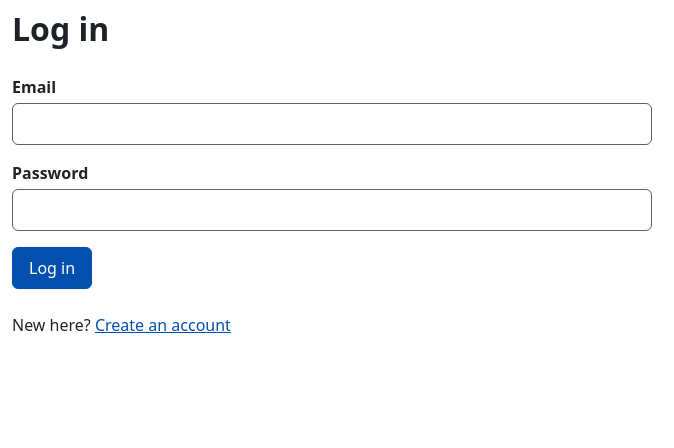
Test case: LoginPage › shows the API's message for a wrong email or password
Step 1. Type "casey@example.com" into the field labelled "Email" → (332, 124), box [12,103,652,145]
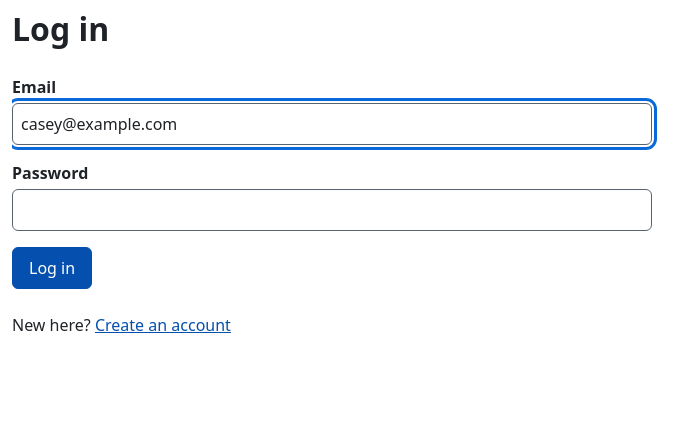
Step 2. Type "password123" into the password field labelled "Password" → (332, 210), box [12,189,652,231]
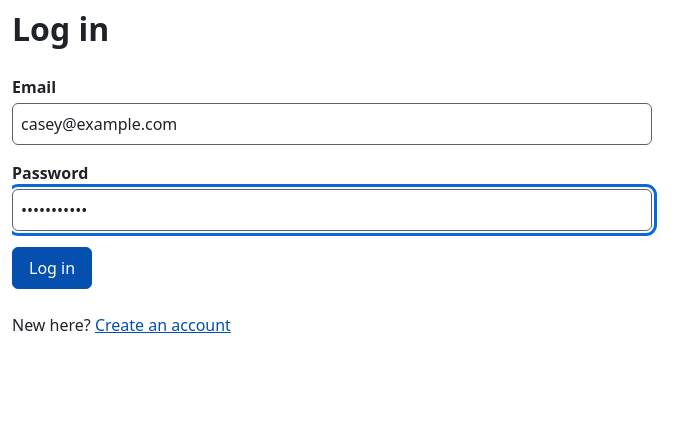
Step 3. Click the button "Log in" → (52, 268), box [12,247,92,289]
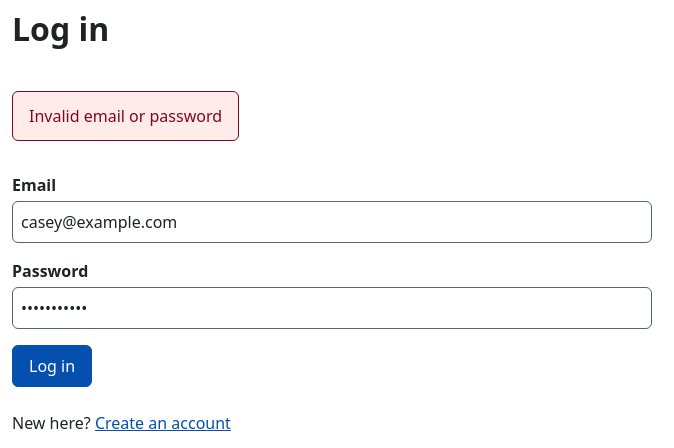
Expected: the button "Log in" is enabled, [12,345,92,387]
Now the message reads "Invalid email or password", box [29,105,222,127]
